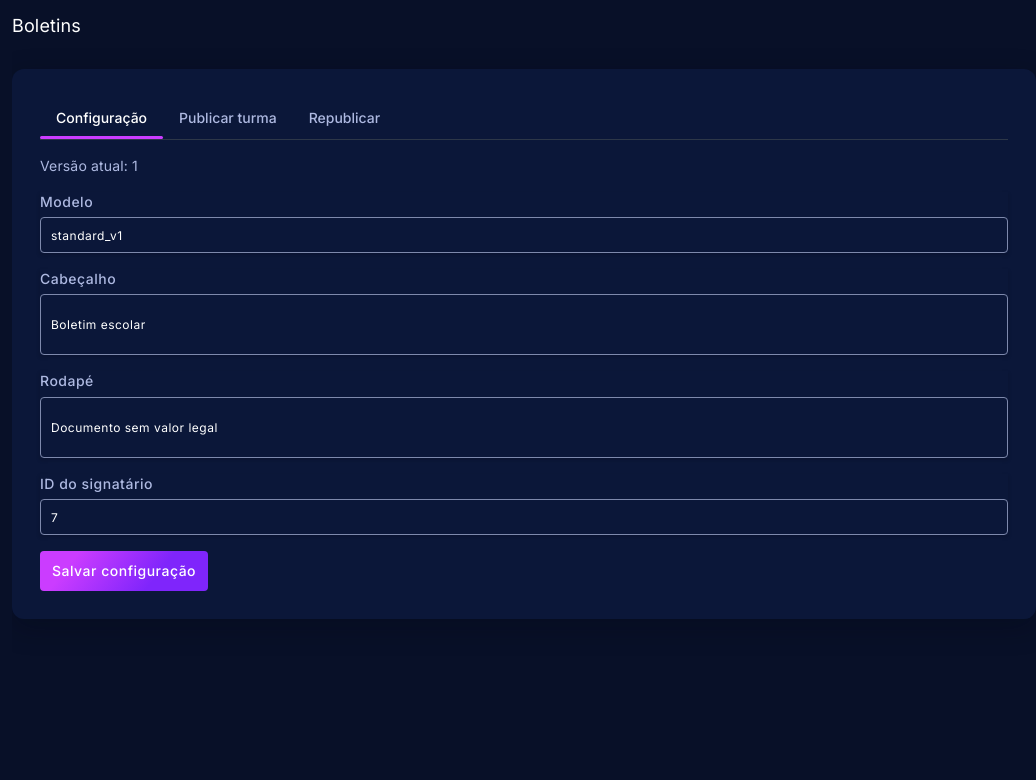
ReportCards › loads and saves report card configuration
Expected: the heading "Boletins" is shown, x1=12 y1=12 x2=81 y2=41
Expected: the field showing "standard_v1" is shown, x1=51 y1=226 x2=997 y2=244
Replace the text in the text box labelled "Cabeçalho" with "Boletim 2026". click: (523, 333)
box: x1=51 y1=316 x2=995 y2=350
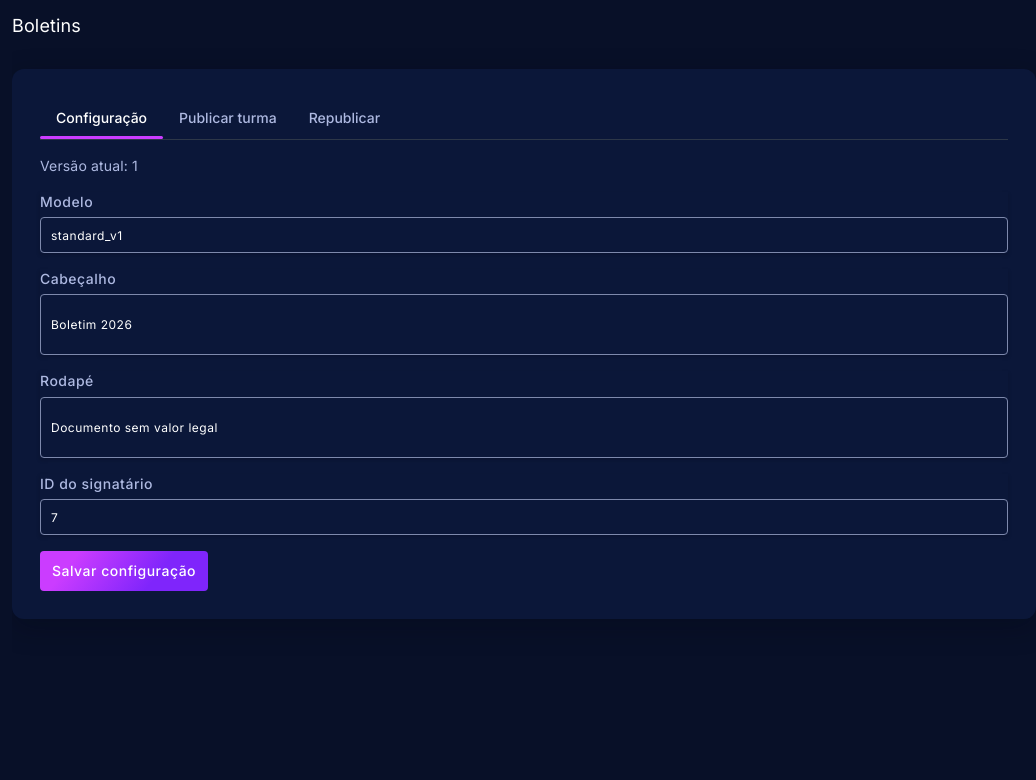
Click the button "Salvar configuração". click: click(124, 571)
box: x1=40 y1=551 x2=208 y2=591
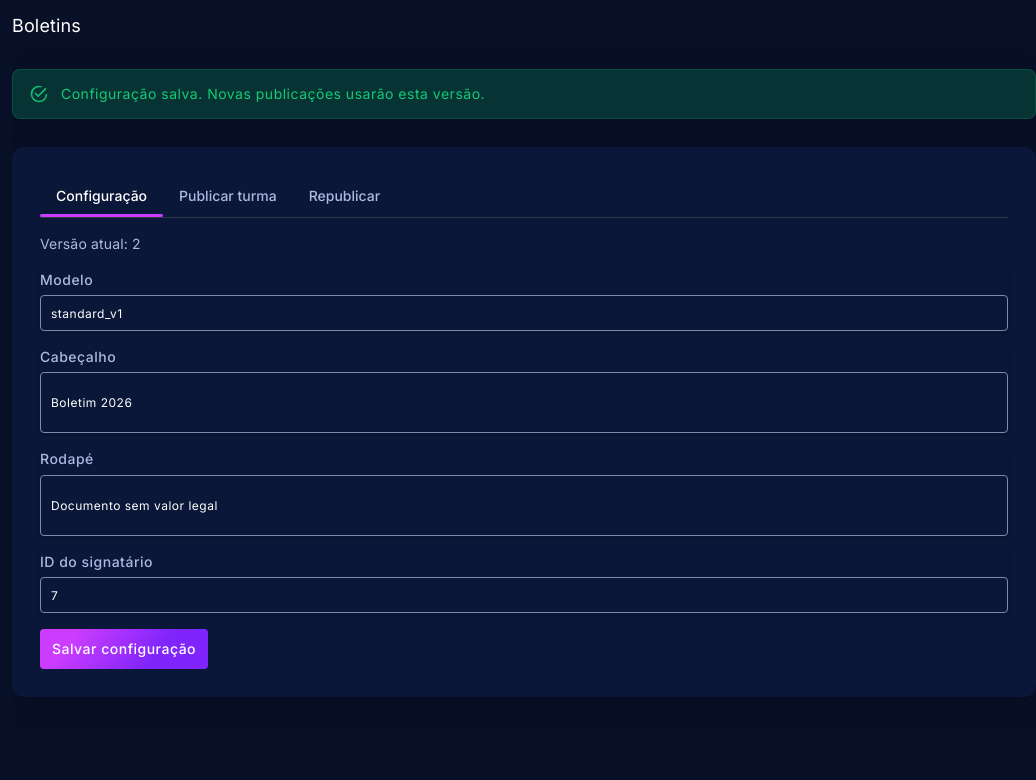
Expected: the text "Configuração salva. Novas publicações usarão esta versão." is shown, x1=61 y1=85 x2=485 y2=102
